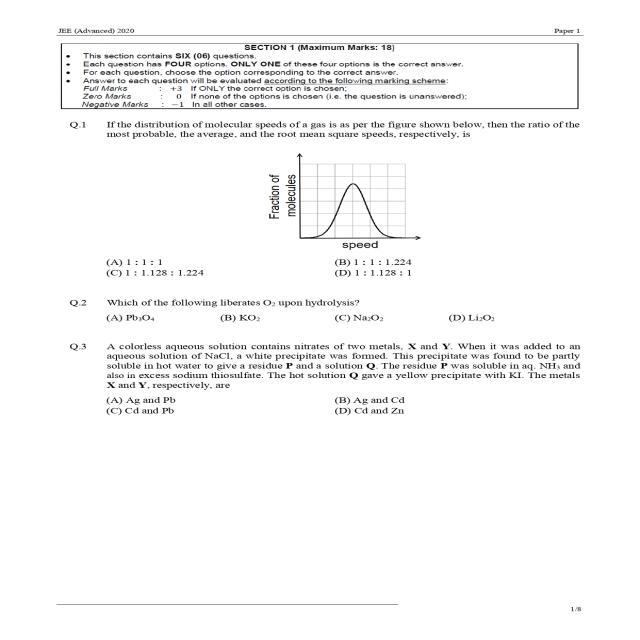Answer_Block: (49, 391, 609, 434), (49, 258, 609, 288), (49, 310, 609, 332)
Instruction: (49, 43, 609, 115)
Question_Answer_Block: (49, 116, 609, 288), (49, 334, 609, 434), (49, 286, 609, 332)
Question_Block: (49, 116, 609, 255), (49, 334, 609, 391), (49, 286, 609, 308)
Question_Paper_Area: (49, 42, 609, 552)
